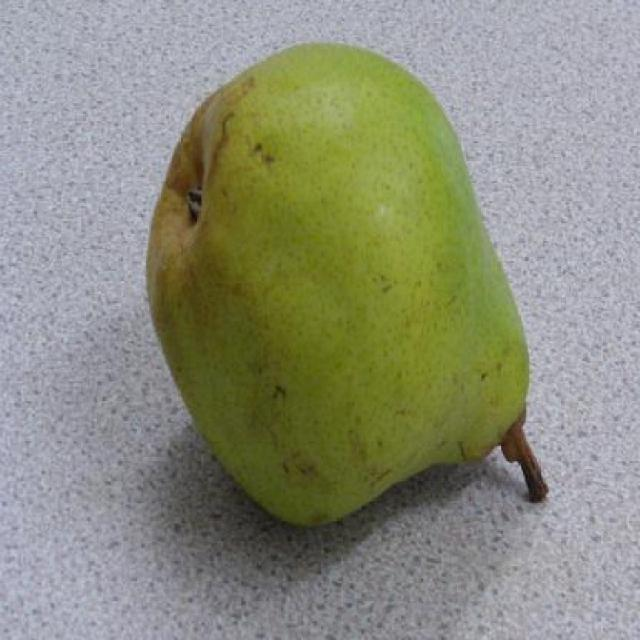Pear: (145, 39, 548, 538)
